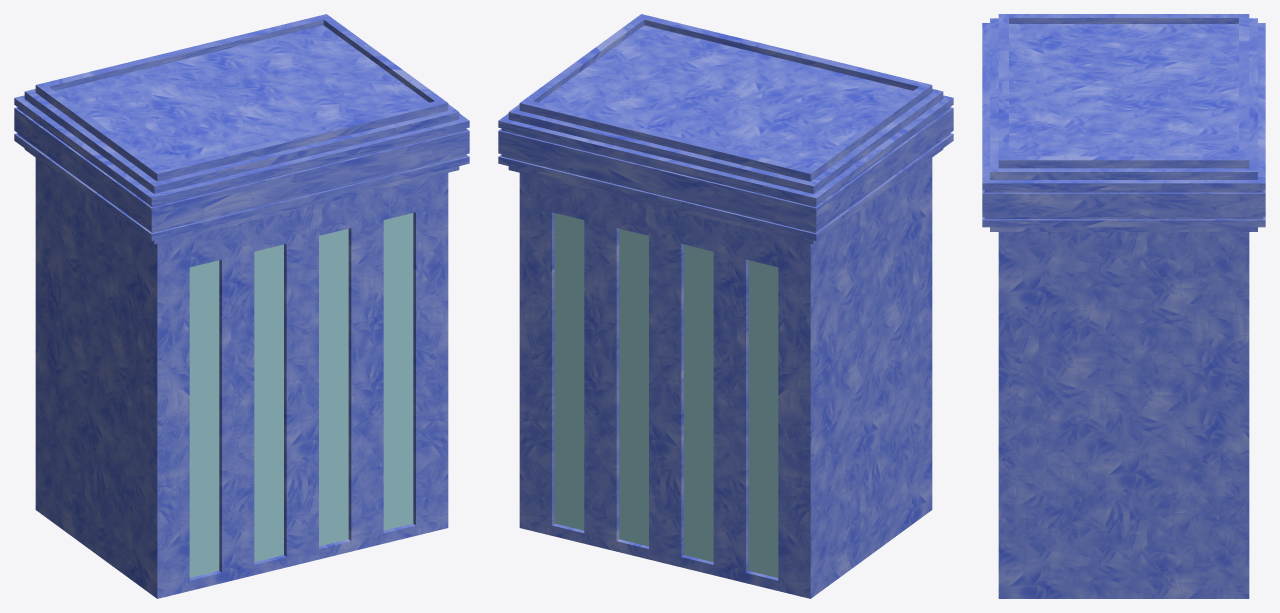
Rendered from Building_03_Blue.fbx.
3 renders of one model, left to right at view 1: azimuth 30°, elevation 25°; view 2: azimuth 150°, elevation 25°; view 3: azimuth 270°, elevation 25°, orthographic. The views are drawn at different scales.
Visible parts, largest first — view 1: Building03_out, Building03_top, Building03_window; view 2: Building03_out, Building03_top, Building03_window; view 3: Building03_out, Building03_top.
Boxes of the visible parts, <box> form: Building03_out: <box>35,158,448,598</box>; Building03_top: <box>14,14,469,244</box>; Building03_window: <box>189,213,413,577</box>; Building03_out: <box>519,158,932,598</box>; Building03_top: <box>498,14,953,244</box>; Building03_window: <box>554,213,778,577</box>; Building03_out: <box>998,232,1249,598</box>; Building03_top: <box>982,14,1265,231</box>.
Bounding box in the file's own units: 2624 × 3350 × 1962.
